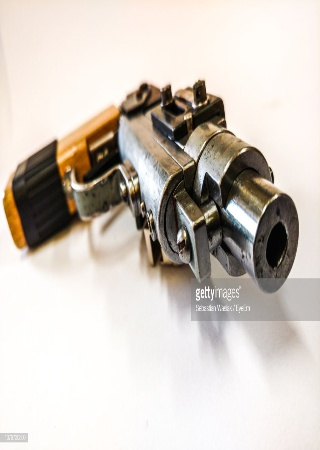handgun: (3, 85, 303, 293)
